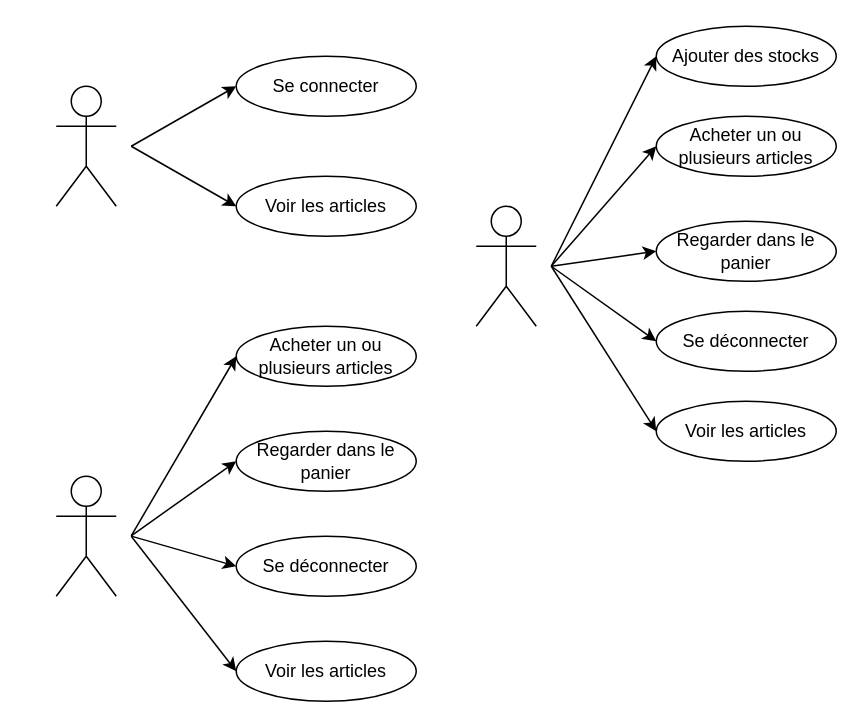
This 863x728 diagram has some shape labels left out. Here are the shapes that lost their labels. From the top down, the centre of each, then its label:
At pixel 85 145: "Utilisateur (non-connecté)".
At pixel 505 265: "Administrateur".
At pixel 85 535: "Utilisateur (connecté)".
